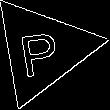P_N: (19, 22, 67, 78)
